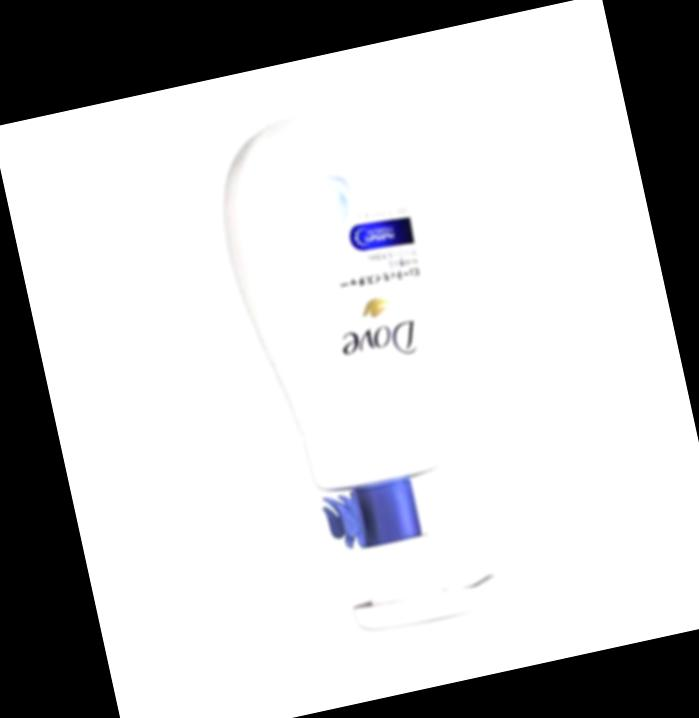cosmetic: (197, 87, 518, 651)
